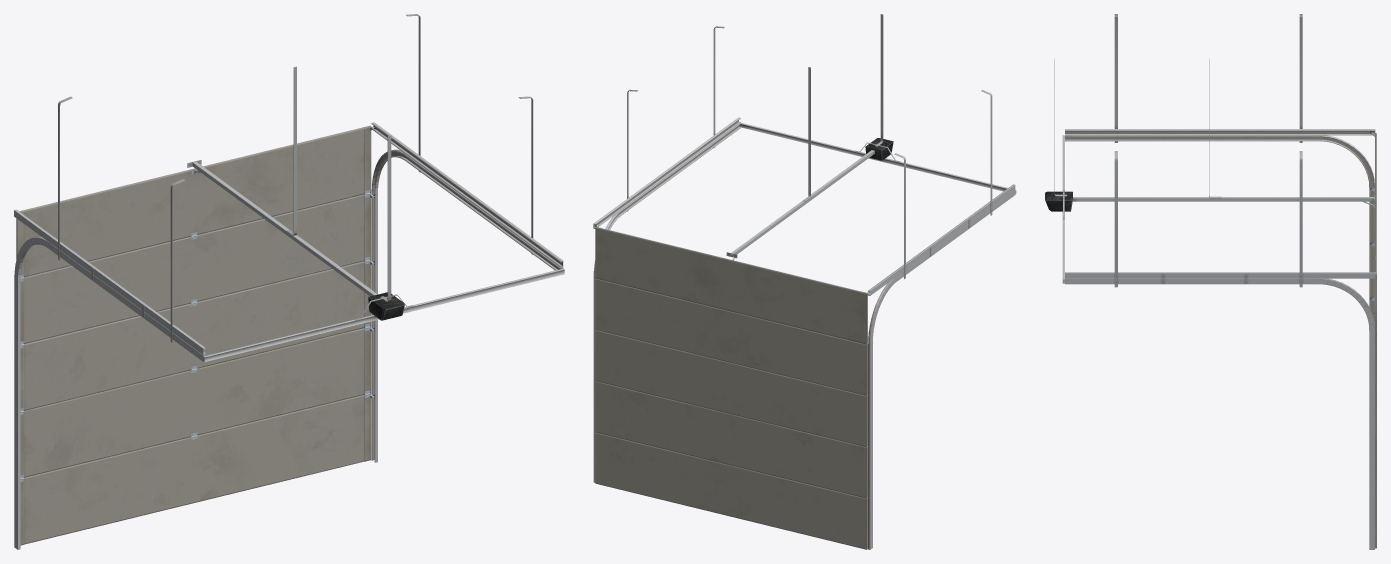
The model's file is GarageDoor01.FBX.
3 views of the same model, side by side, from view 1: azimuth 30°, elevation 25°; view 2: azimuth 150°, elevation 25°; view 3: azimuth 270°, elevation 25° (orthographic). The views are drawn at different scales.
Parts seen in each view (by area): view 1: GarageDoor01; view 2: GarageDoor01; view 3: GarageDoor01.
Boxes of the visible parts, box(x1,y1,x2,y2) form: GarageDoor01: box(14, 14, 564, 549); GarageDoor01: box(593, 14, 1016, 549); GarageDoor01: box(1045, 14, 1376, 549).
Bounding box in the file's own units: 311 × 420 × 302.
